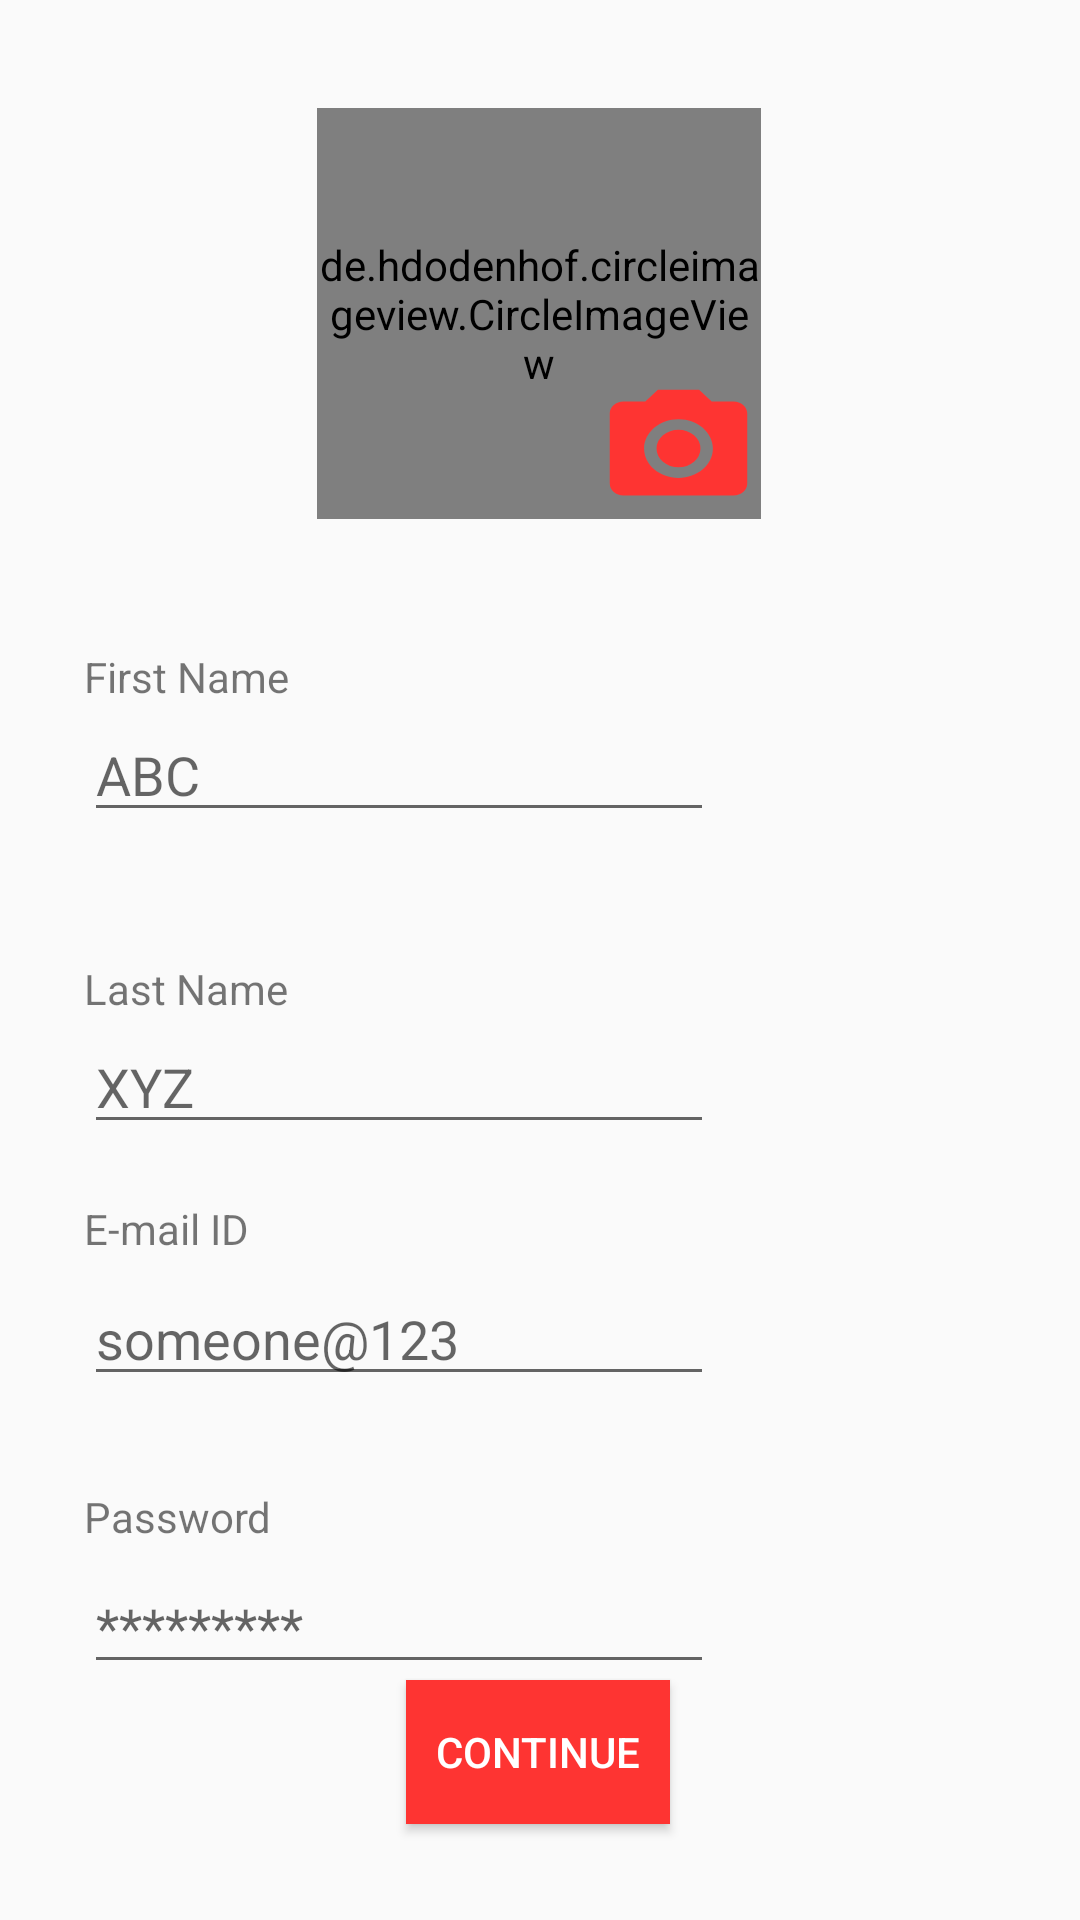

Where to tap for icons on this 1080 × 1920 app screen, as (x,y):
camera: (678,442)
